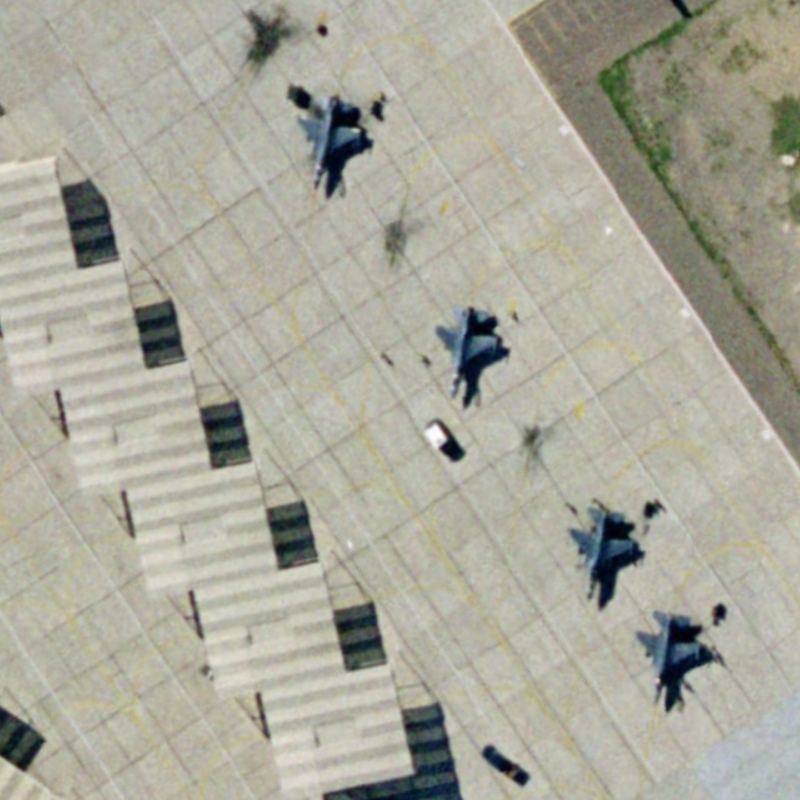A5: (425, 298, 508, 408), (625, 607, 711, 711), (292, 88, 372, 198), (565, 500, 643, 608)
